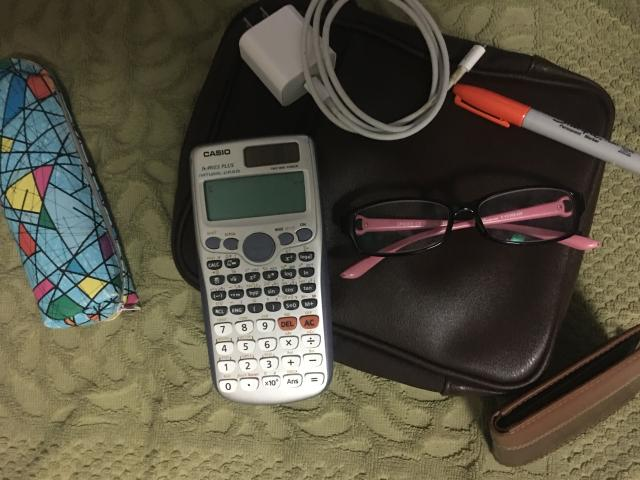Glasses: (341, 188, 594, 279)
Pen: (452, 84, 640, 175)
Wallet: (489, 325, 640, 466)
wire: (239, 0, 485, 140)
